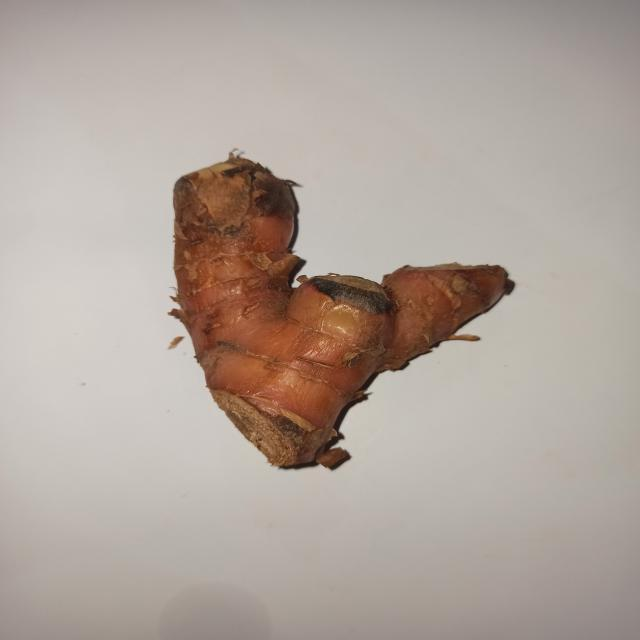ginger: (177, 160, 494, 453)
